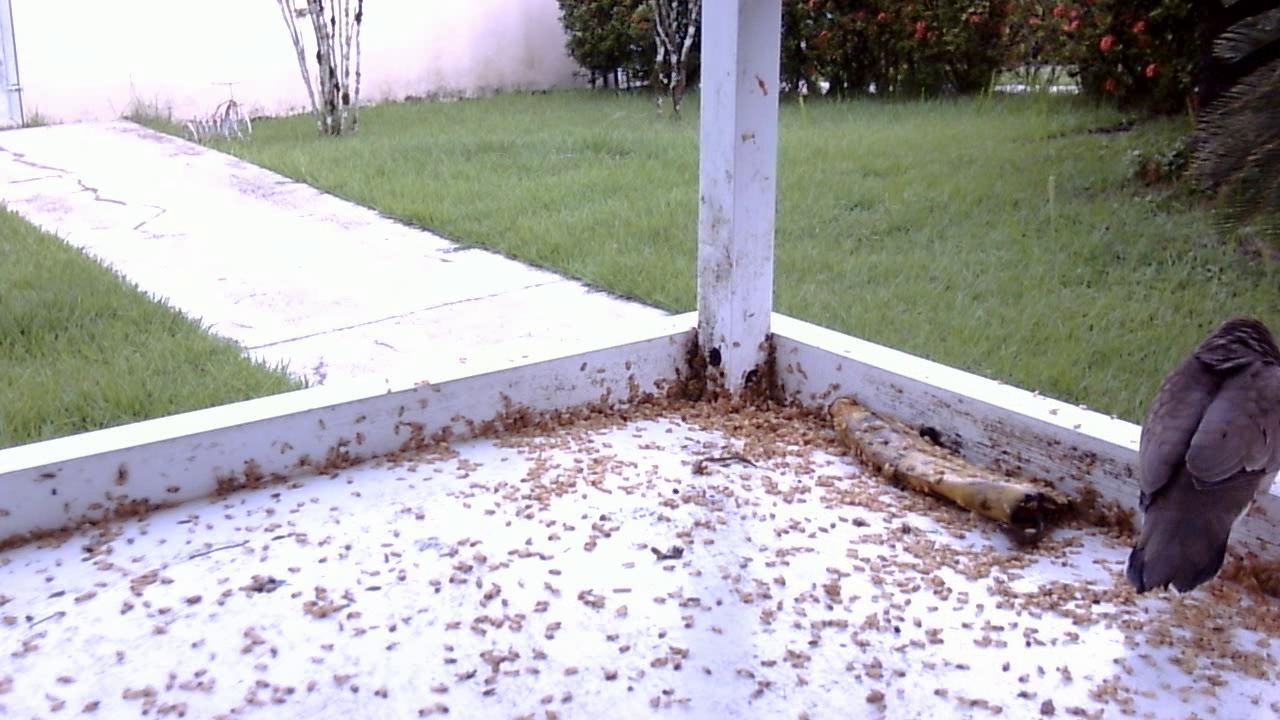rolinha: (1114, 322, 1278, 595)
